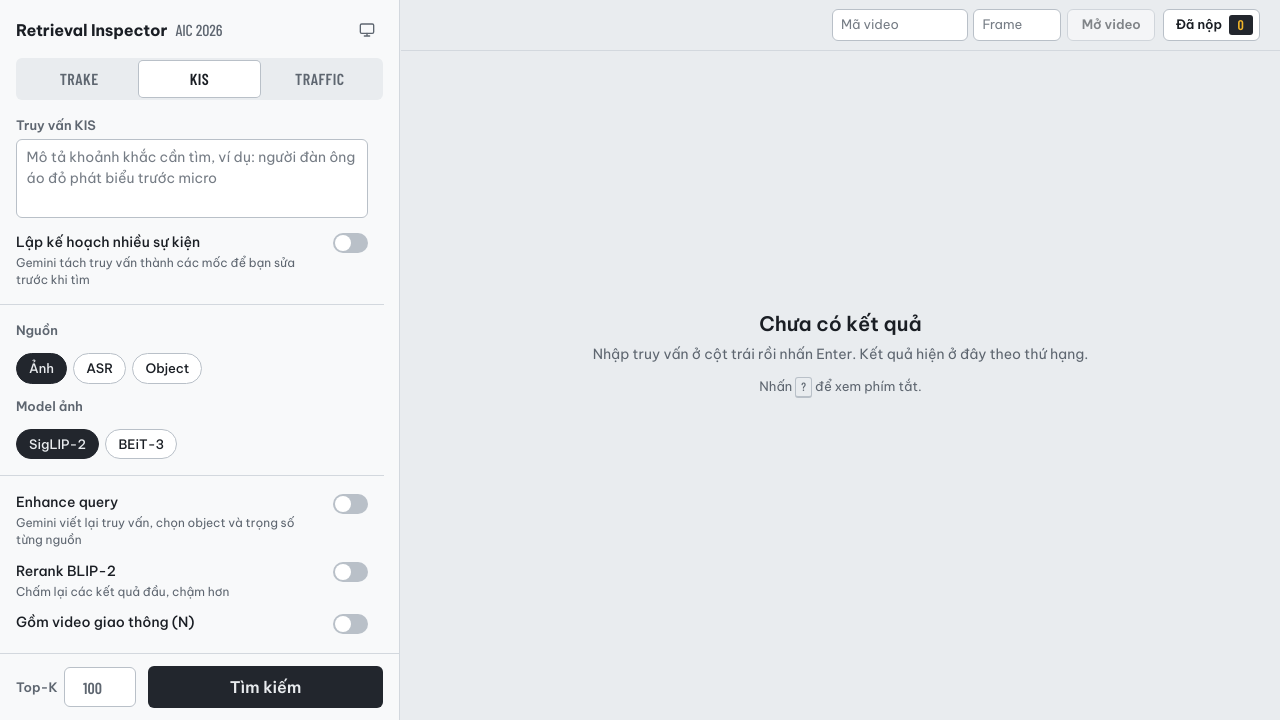
App query workspace › renders the mock shell and switches between TRAKE, KIS and TRAFFIC tabs
Check: the text box labelled "Truy vấn KIS" is shown, box [16, 139, 368, 218]
Check: the checkbox labelled "SigLIP-2" is checked, box [16, 429, 99, 459]
Click the tab "TRAFFIC": (320, 79) [260, 61, 380, 97]
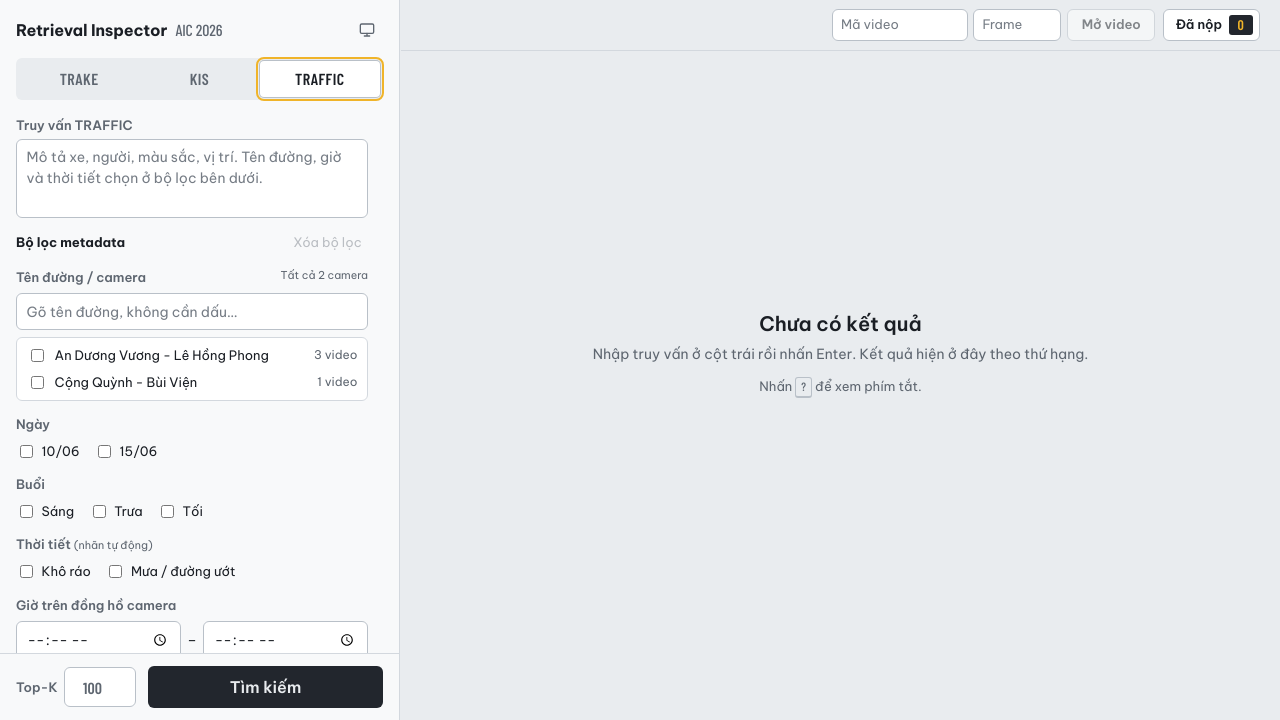
Check: the text box labelled "Truy vấn TRAFFIC" is shown, box [16, 139, 368, 218]
Check: the element named "Traffic filters" is shown, box [16, 232, 368, 653]
Check: the text labelled "ASR" is gone
Click the tab "TRAKE": (79, 79) [19, 61, 139, 97]
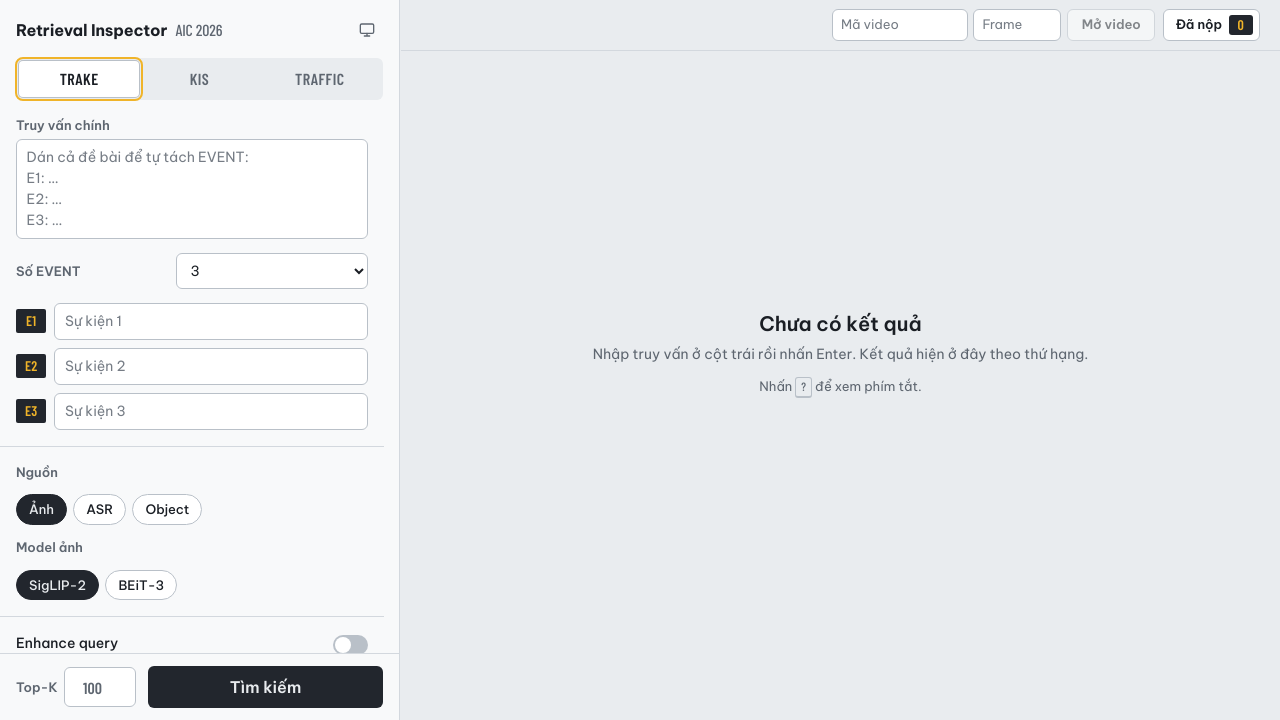
Check: the text box labelled "Truy vấn chính" is shown, box [16, 139, 368, 239]
Check: the text box named "EVENT 1" is shown, box [54, 303, 368, 340]
Check: the text box named "EVENT 2" is shown, box [54, 348, 368, 385]
